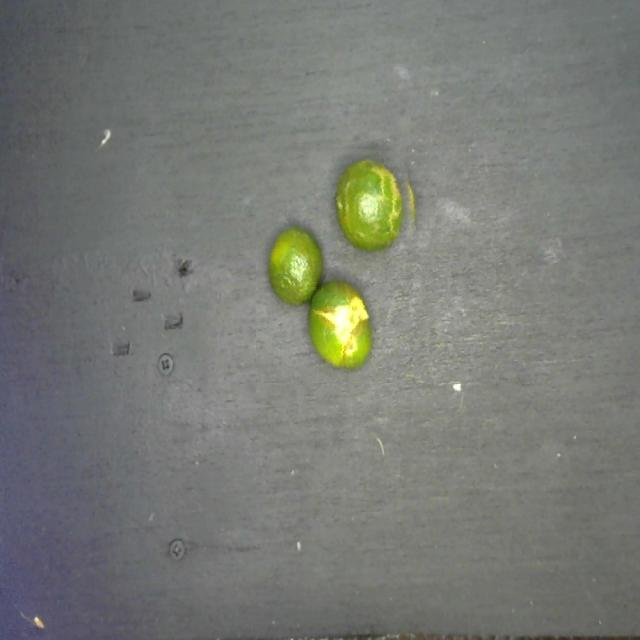biodegradable: (256, 141, 439, 383)
